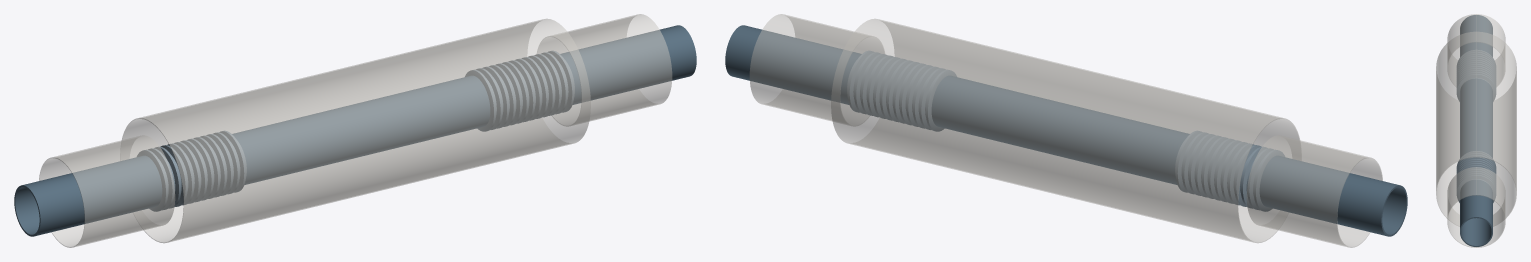
File: 2ppu-dn150-L2286-D159-k-o387.glb
3 renders of one model, left to right at view 1: azimuth 30°, elevation 25°; view 2: azimuth 150°, elevation 25°; view 3: azimuth 270°, elevation 25°, orthographic. The views are drawn at different scales.
Visible parts, largest first — view 1: uslovno_kozhuh_ppu, uslovno_obolochka_l, uslovno_obolochka_r, patrubok_1, patrubok_3, patrubok_4, patrubok_2, prokladka_silfon_1, prokladka_silfon_2; view 2: uslovno_kozhuh_ppu, uslovno_obolochka_l, uslovno_obolochka_r, patrubok_1, patrubok_3, patrubok_4, patrubok_2, prokladka_silfon_1, prokladka_silfon_2; view 3: uslovno_kozhuh_ppu, uslovno_obolochka_r, uslovno_obolochka_l, patrubok_4, prokladka_silfon_2, prokladka_silfon_1, patrubok_2, patrubok_3, patrubok_1.
Boxes of the visible parts, <box> form: uslovno_kozhuh_ppu: <box>122,18,590,243</box>; uslovno_obolochka_l: <box>39,135,175,247</box>; uslovno_obolochka_r: <box>537,14,672,126</box>; patrubok_1: <box>14,155,162,236</box>; patrubok_3: <box>351,75,490,155</box>; patrubok_4: <box>560,25,696,104</box>; patrubok_2: <box>232,105,368,184</box>; prokladka_silfon_1: <box>137,130,246,211</box>; prokladka_silfon_2: <box>465,50,574,131</box>; uslovno_kozhuh_ppu: <box>831,18,1299,243</box>; uslovno_obolochka_l: <box>1246,135,1382,247</box>; uslovno_obolochka_r: <box>749,14,884,126</box>; patrubok_1: <box>1259,155,1407,236</box>; patrubok_3: <box>931,75,1070,155</box>; patrubok_4: <box>725,25,861,104</box>; patrubok_2: <box>1053,105,1189,184</box>; prokladka_silfon_1: <box>1175,130,1284,211</box>; prokladka_silfon_2: <box>847,50,956,131</box>; uslovno_kozhuh_ppu: <box>1436,31,1516,226</box>; uslovno_obolochka_r: <box>1447,167,1505,247</box>; uslovno_obolochka_l: <box>1447,14,1505,86</box>; patrubok_4: <box>1460,179,1492,246</box>; prokladka_silfon_2: <box>1456,151,1496,202</box>; prokladka_silfon_1: <box>1456,50,1496,101</box>; patrubok_2: <box>1460,78,1492,127</box>; patrubok_3: <box>1460,116,1492,158</box>; patrubok_1: <box>1460,15,1492,56</box>.
Bounding box in the file's own units: 2286 × 387 × 387.
